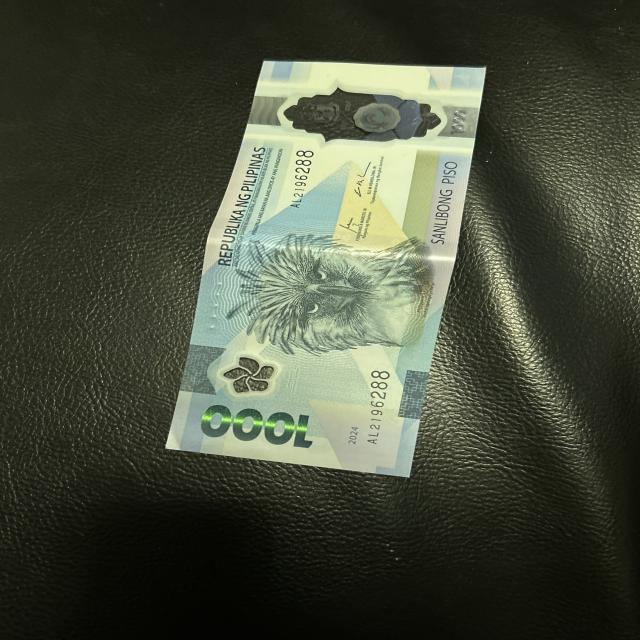clear_window: (283, 84, 438, 146)
eagle: (232, 234, 423, 355)
sampaguita: (220, 358, 274, 394)
